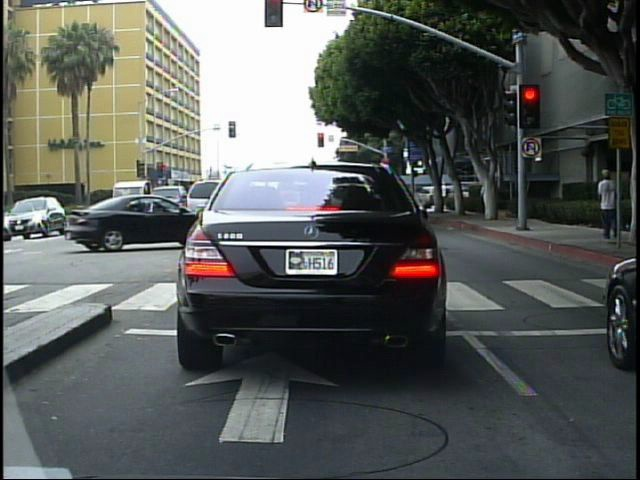person: (596, 167, 619, 242), (477, 179, 492, 218), (437, 179, 451, 212), (630, 165, 633, 255)
